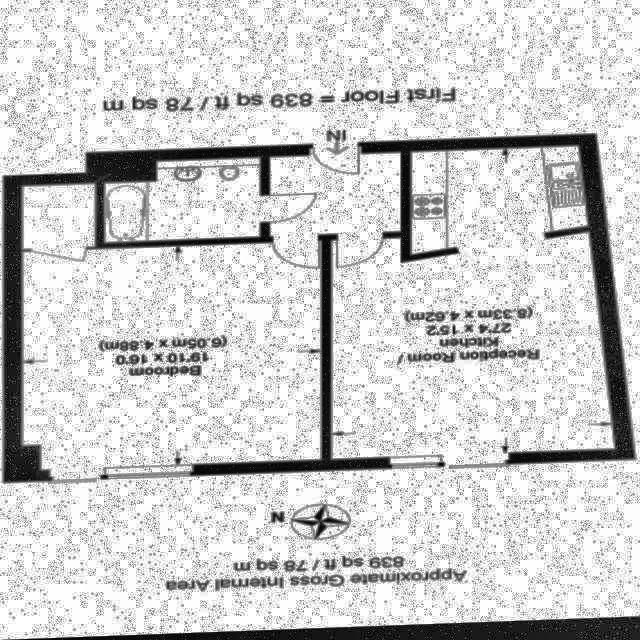room: (21, 183, 322, 478), (325, 234, 615, 462), (401, 137, 588, 258), (103, 159, 264, 244), (267, 154, 404, 239)
